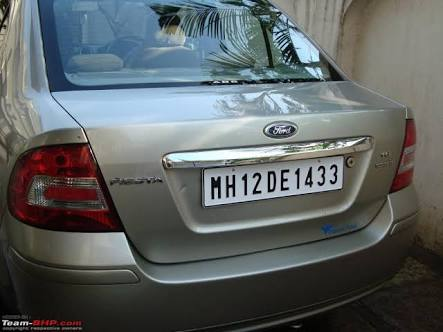number_plate: (181, 146, 358, 217)
